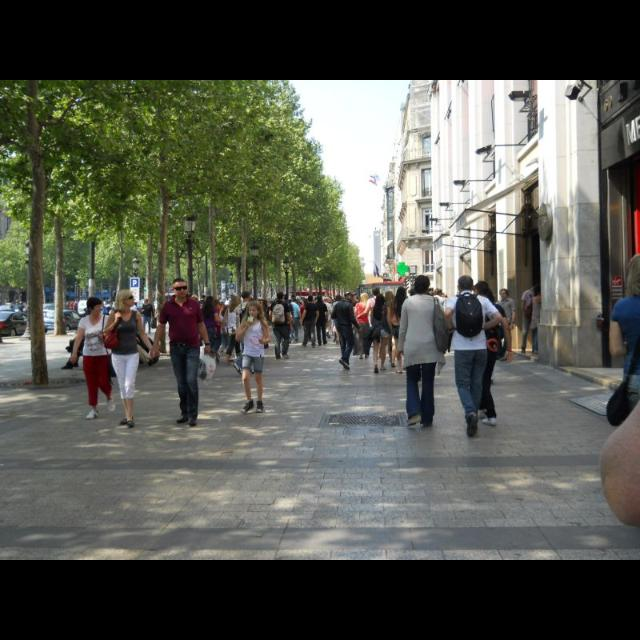head: (414, 274, 432, 296), (172, 278, 190, 298), (456, 276, 476, 292), (88, 297, 104, 315), (119, 290, 135, 308), (474, 281, 490, 299), (249, 301, 263, 319), (376, 294, 386, 306), (397, 288, 407, 300), (243, 291, 253, 301), (344, 292, 354, 302), (360, 294, 370, 304), (386, 292, 396, 302), (532, 281, 542, 291), (207, 296, 216, 306), (499, 290, 508, 300), (216, 302, 224, 310), (316, 296, 324, 304), (373, 288, 381, 296), (534, 288, 542, 296), (232, 296, 238, 306), (218, 303, 225, 311), (278, 292, 284, 300), (144, 300, 150, 306), (293, 298, 299, 304), (308, 296, 314, 302), (324, 297, 330, 303), (337, 295, 343, 301)
person: (442, 274, 504, 438), (150, 278, 218, 426), (396, 275, 452, 429), (460, 280, 516, 426), (103, 287, 157, 428), (68, 296, 120, 422), (236, 300, 270, 414), (230, 291, 262, 377), (331, 292, 361, 372), (390, 286, 416, 374), (357, 287, 387, 363), (493, 288, 517, 364), (201, 294, 227, 364), (268, 291, 294, 361), (526, 286, 552, 354), (519, 280, 541, 356), (370, 292, 390, 373), (353, 292, 375, 362), (223, 294, 244, 366), (382, 291, 400, 369), (300, 295, 320, 349), (329, 294, 348, 348), (210, 298, 226, 362), (312, 294, 330, 348), (214, 301, 226, 363), (287, 298, 303, 344), (140, 299, 156, 337), (322, 296, 334, 340)
